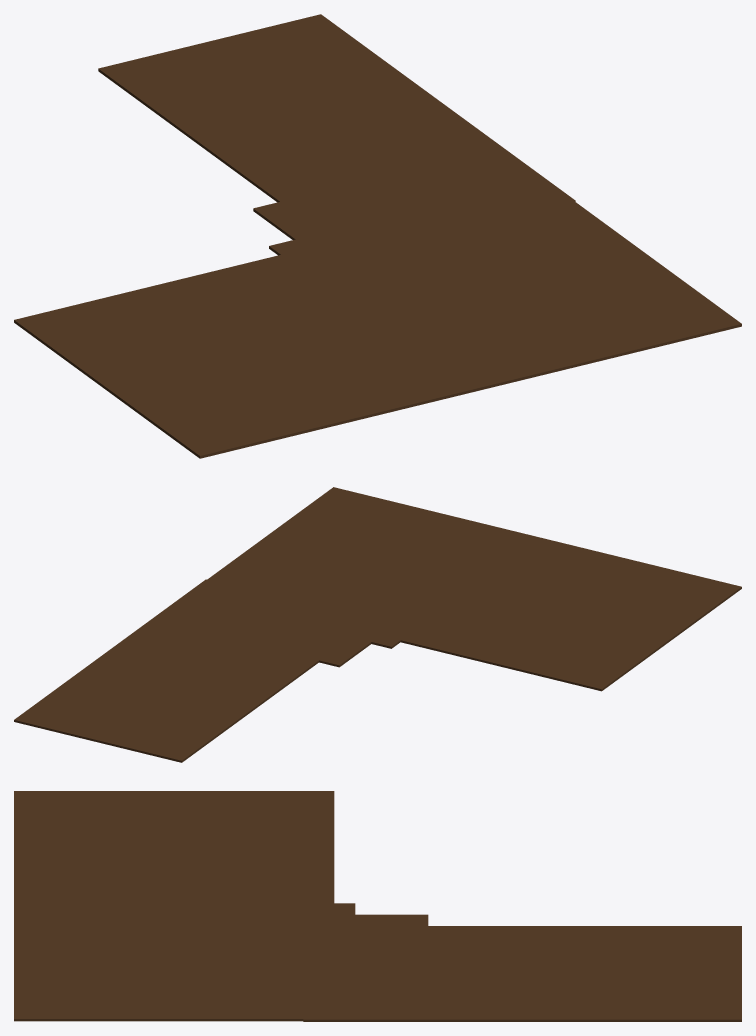
File: shore.gltf
3 views of the same model, one above another, from view 1: azimuth 30°, elevation 25°; view 2: azimuth 150°, elevation 25°; view 3: azimuth 270°, elevation 25° (orthographic). The views are drawn at different scales.
Parts seen in each view (by area): view 1: Shore2; view 2: Shore2; view 3: Shore2.
Boxes of the visible parts, box(x1,y1,x2,y2) form: Shore2: box(14, 14, 741, 458); Shore2: box(14, 487, 741, 762); Shore2: box(14, 791, 741, 1021).
Size of the model in its own units: 230 by 1.1 by 309.
